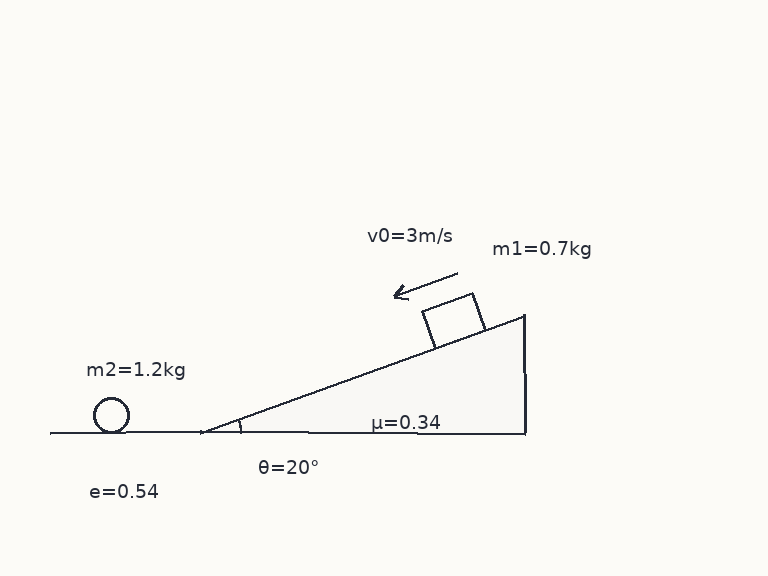ball: (91, 395, 131, 435)
block: (420, 291, 487, 350)
ramp: (199, 313, 526, 435)
